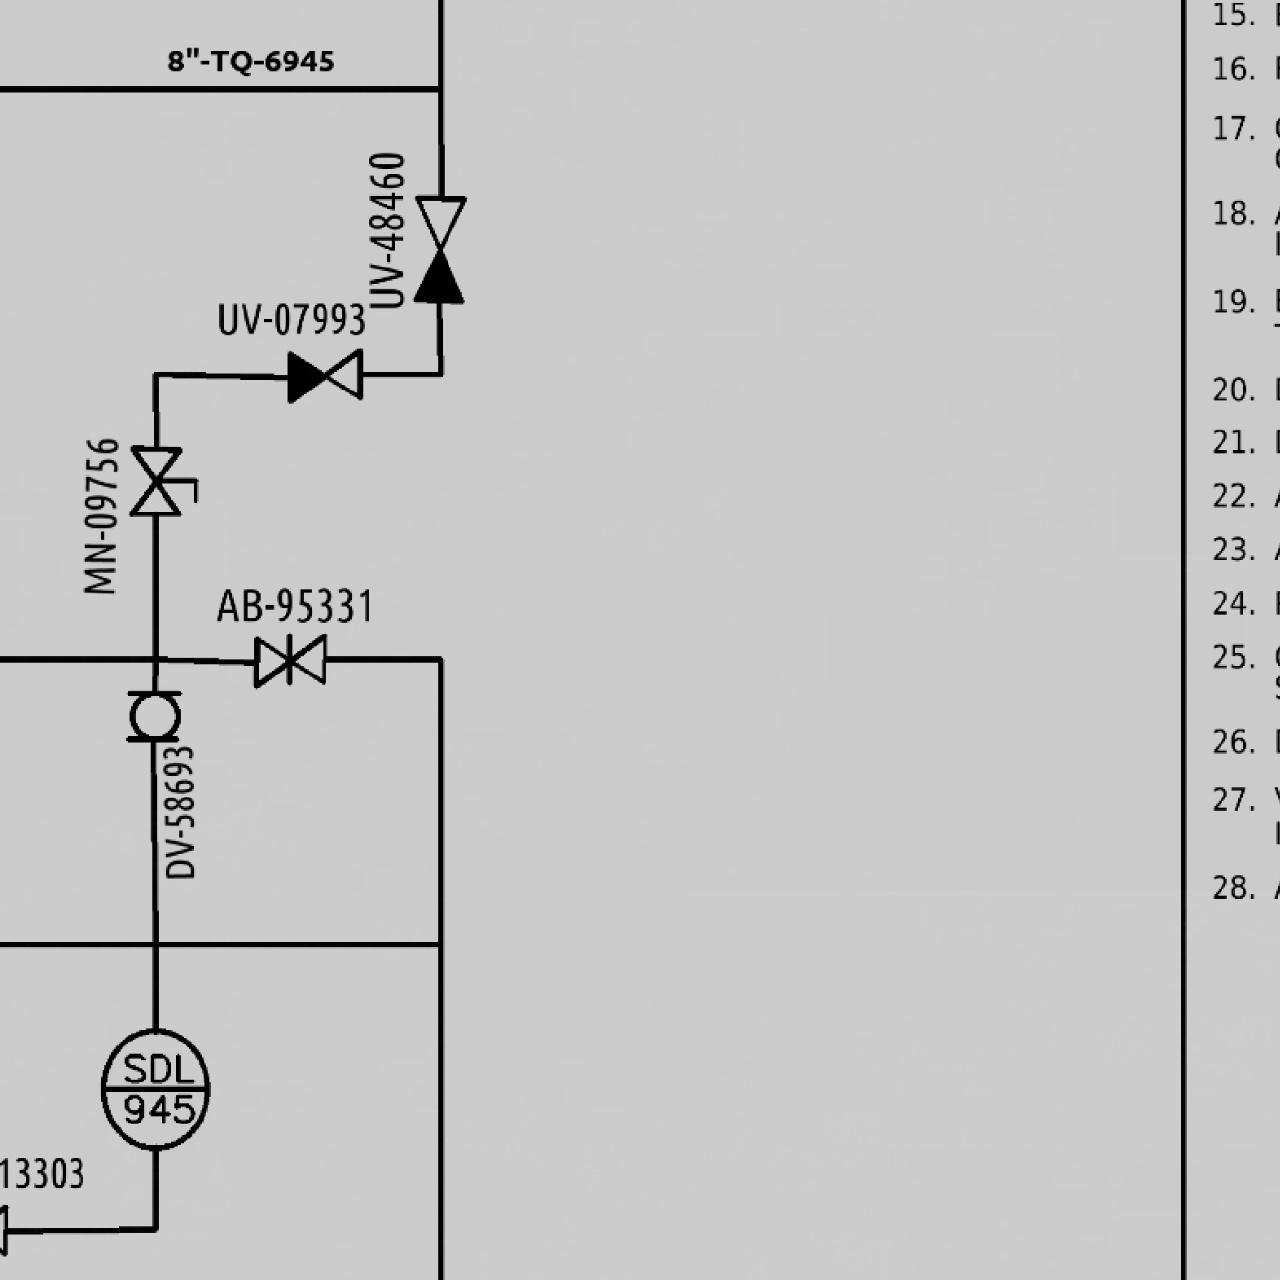Half closed valve: (408, 191, 470, 307), (282, 343, 365, 406)
